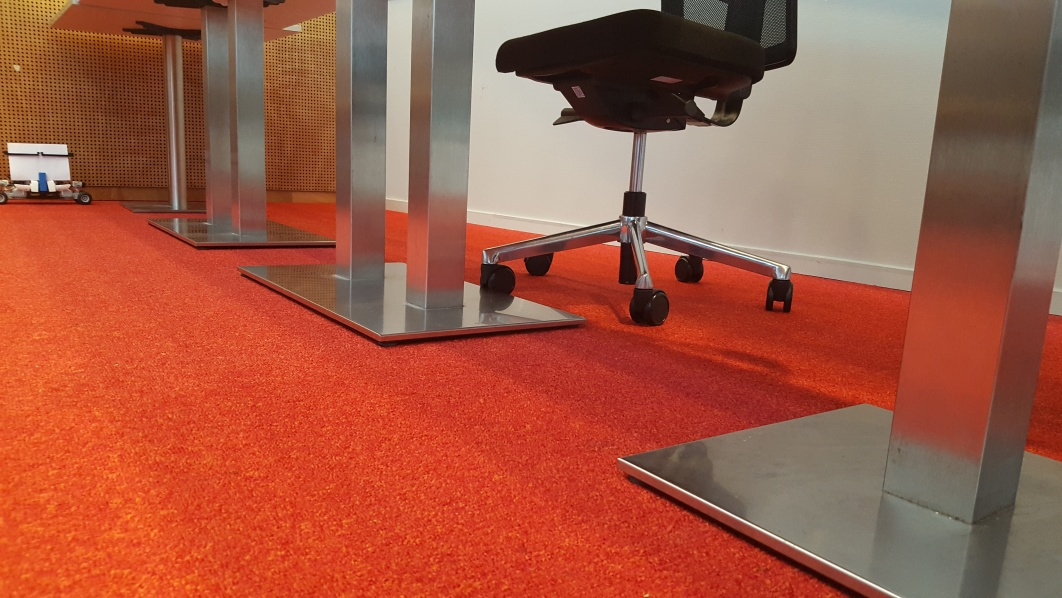car: (3, 141, 91, 209)
